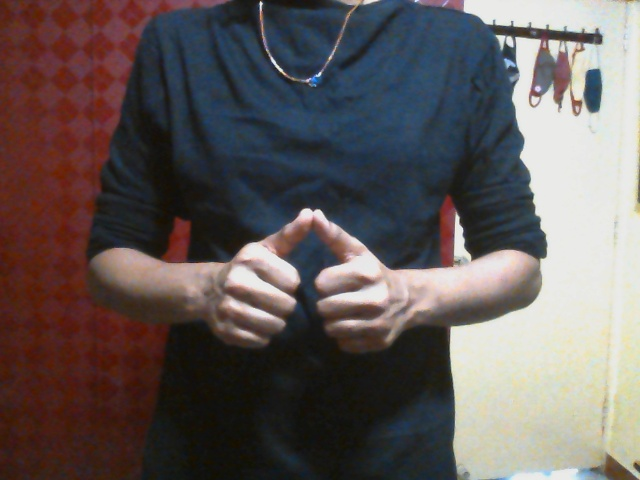A: (207, 208, 408, 355)
